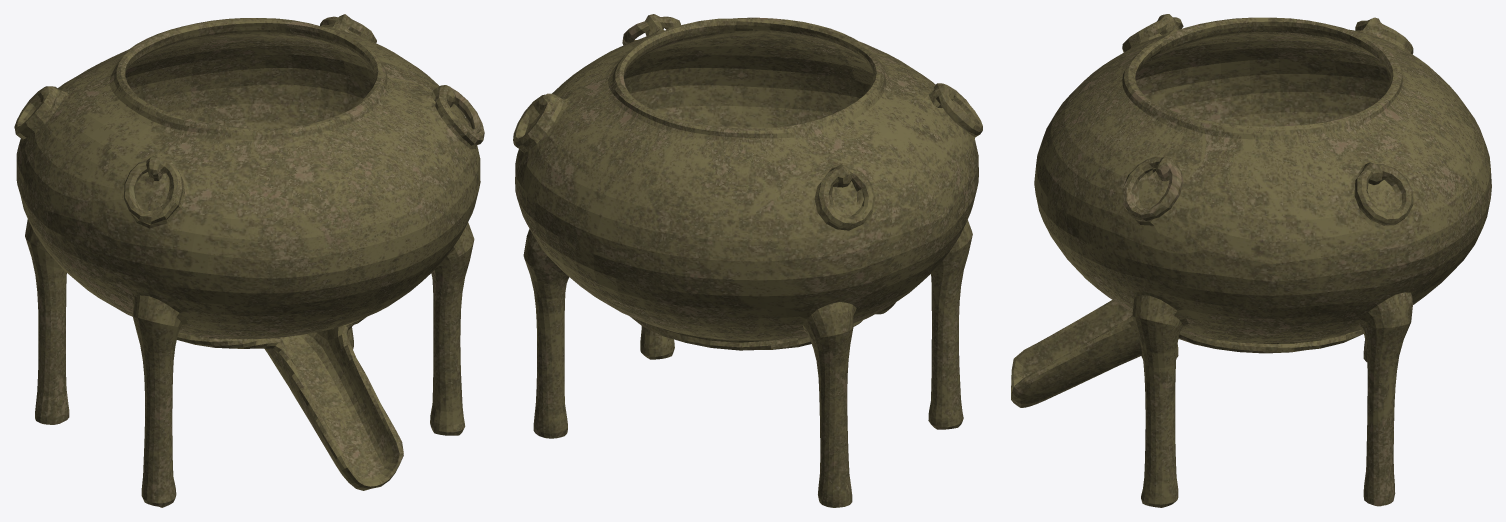
File: 14-han-warming-ding.glb
The picture shows the model from 3 angles, left to right: view 1: azimuth 30°, elevation 25°; view 2: azimuth 150°, elevation 25°; view 3: azimuth 270°, elevation 25°; orthographic projection.
Parts seen in each view (by area): view 1: node_0_Retopo; view 2: node_0_Retopo; view 3: node_0_Retopo.
Part boxes in pixels (x1,y1,x2,y2): node_0_Retopo: [14, 14, 484, 507]; node_0_Retopo: [513, 14, 982, 507]; node_0_Retopo: [1011, 14, 1491, 507].
Bounding box in the file's own units: 0.9272 × 0.7924 × 0.958.
1 material, 1 textured.
